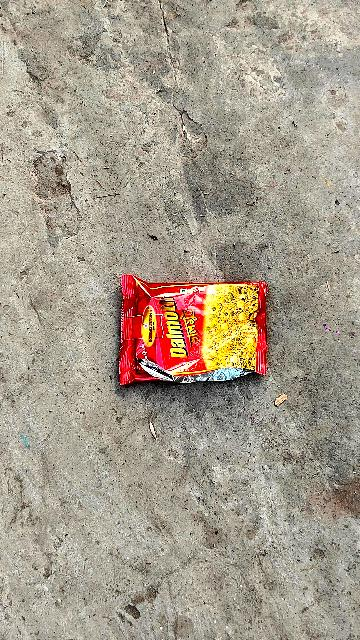packet: (105, 270, 280, 395)
